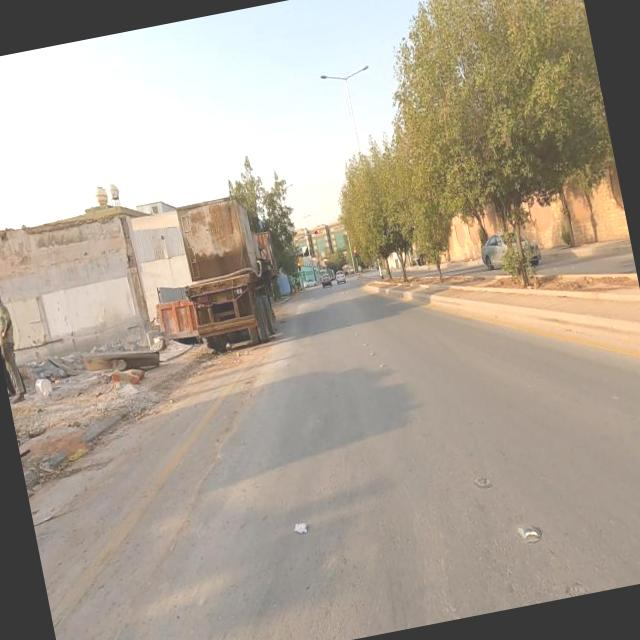debris: (36, 258, 215, 460), (0, 288, 122, 461)
